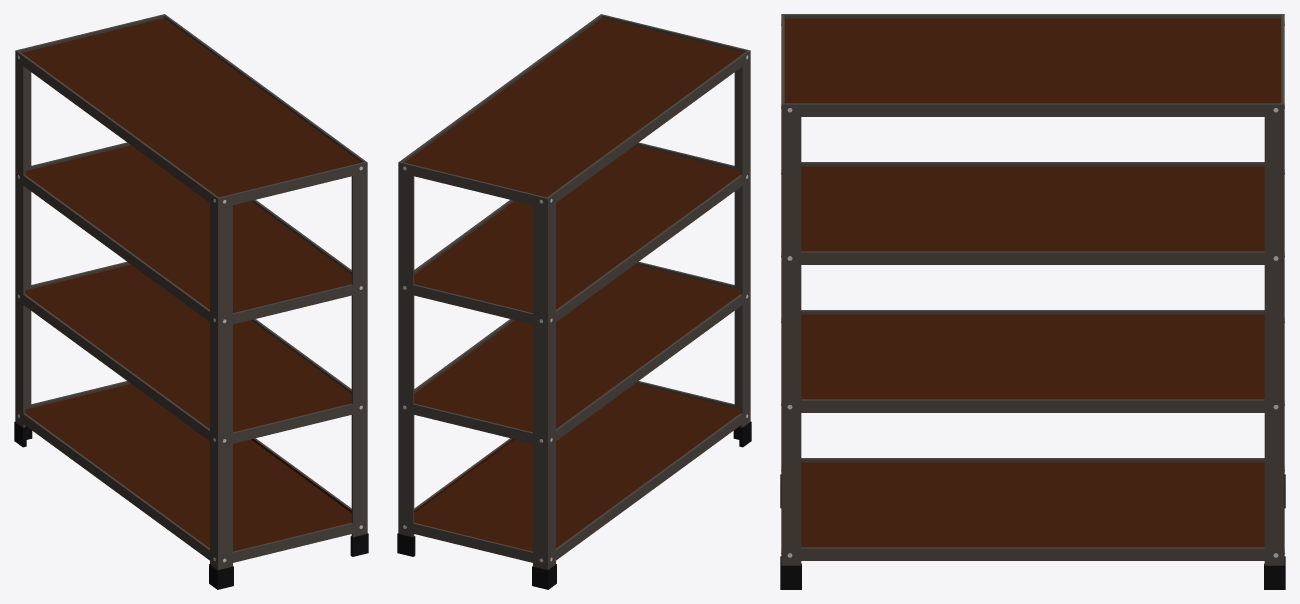
Rendered from Etagere.obj.
3 renders of one model, left to right at view 1: azimuth 30°, elevation 25°; view 2: azimuth 150°, elevation 25°; view 3: azimuth 270°, elevation 25°, orthographic. The views are drawn at different scales.
Parts seen in each view (by area): view 1: Etage, Cube.003, Cube; view 2: Etage, Cube.003, Cube; view 3: Etage, Cube.003, Cube.
Boxes of the visible parts, bbox=[...] form: Etage: bbox=[15, 14, 367, 562]; Cube.003: bbox=[15, 55, 367, 569]; Cube: bbox=[14, 421, 368, 589]; Etage: bbox=[398, 14, 750, 562]; Cube.003: bbox=[398, 55, 750, 569]; Cube: bbox=[397, 421, 751, 589]; Etage: bbox=[781, 14, 1284, 560]; Cube.003: bbox=[781, 110, 1284, 565]; Cube: bbox=[780, 474, 1285, 589].
Bounding box in the file's own units: 0.8188 × 2.02 × 1.91.
